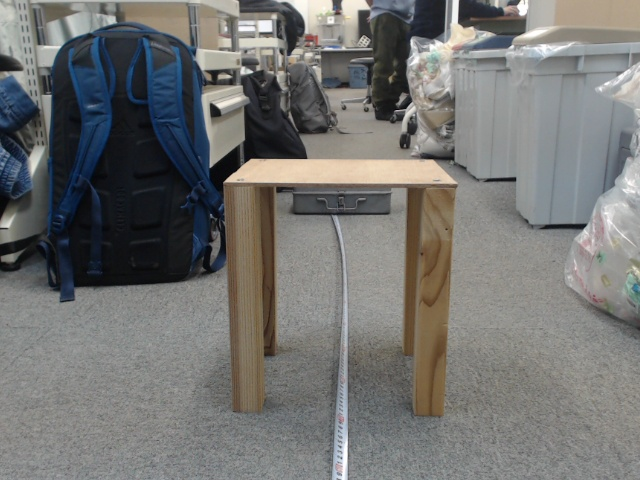desk: (304, 122, 538, 399)
